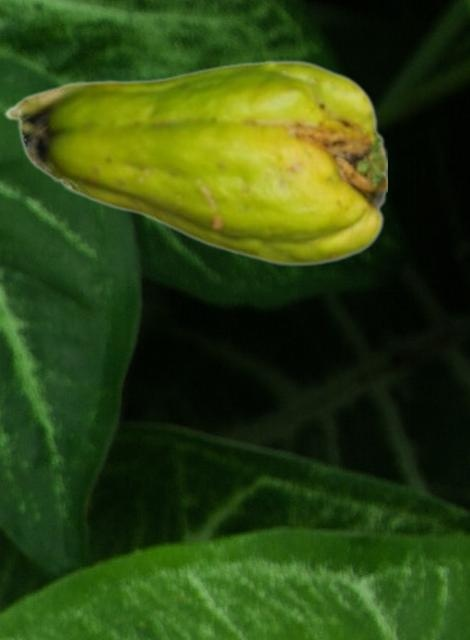sayote: (3, 59, 386, 266)
